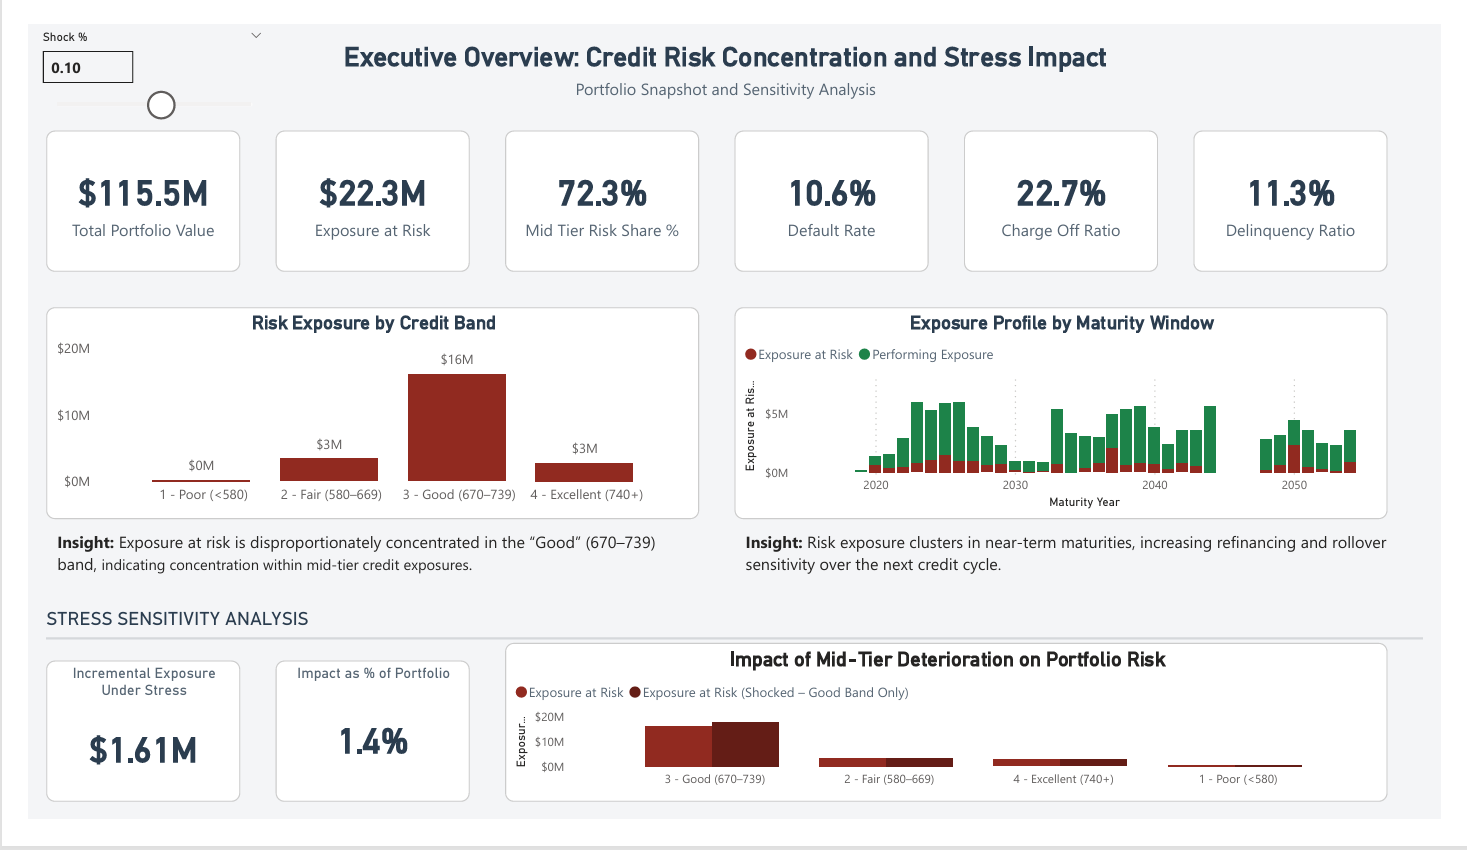

What the dashboard file says about the page in this screenshot:
{"tool":"powerbi","page":{"name":"EXECUTIVE DASHBOARD","canvas":[1280,720],"ordinal":0},"visuals":[{"type":"card","fields":{"Values":["zz_Measures.Total Portfolio Value"]},"box":[16,96,208,128],"z":1},{"type":"card","fields":{"Values":["zz_Measures.Delinquency Ratio"]},"box":[1072,112,176,96],"z":2},{"type":"card","fields":{"Values":["zz_Measures.Default Rate"]},"box":[688,112,176,96],"z":3},{"type":"card","fields":{"Values":["zz_Measures.Charge Off Ratio"]},"box":[880,112,176,96],"z":4},{"type":"card","fields":{"Values":["zz_Measures.Mid Tier Risk Share %"]},"box":[464,96,208,128],"z":5},{"type":"card","fields":{"Values":["zz_Measures.Exposure at Risk"]},"box":[240,96,208,128],"z":11},{"type":"clusteredColumnChart","title":"Risk Concentration","fields":{"Category":["loans.Credit Score Band (Ordered)"],"Y":["zz_Measures.Exposure at Risk"]},"box":[16,256,592,192],"z":12},{"type":"columnChart","title":"Maturity Exposure Profile","fields":{"Category":["loans.Maturity Year"],"Y":["zz_Measures.Exposure at Risk","zz_Measures.Performing Exposure"]},"box":[640,256,608,192],"z":13},{"type":"slicer","fields":{"Values":["Shock %.Shock %"]},"box":[0,0,224,96],"z":14},{"type":"card","title":"Incremental Exposure Under Stress","fields":{"Values":["zz_Measures.Δ Exposure (Shock Impact – Good Only)"]},"box":[16,576,240,144],"z":15},{"type":"card","title":"Impact as % of Portfolio","fields":{"Values":["zz_Measures.Shock Impact % of Portfolio"]},"box":[288,576,240,144],"z":16},{"type":"clusteredColumnChart","title":"Impact of Mid-Tier Deterioration on Portfolio Risk","fields":{"Category":["loans.Credit Score Band (Ordered)"],"Y":["zz_Measures.Exposure at Risk","zz_Measures.Exposure at Risk (Shocked – Good Band Only)"]},"box":[560,576,688,144],"z":17},{"type":"textbox","box":[16,448,592,64],"z":18},{"type":"textbox","box":[640,448,608,64],"z":19},{"type":"shape","title":"STRESS SENSITIVITY ANALYSIS","box":[16,528,1248,32],"z":21},{"type":"textbox","title":"Executive Overview: Credit Risk Concentration and Stress Impact","box":[240,16,1008,80],"z":22}]}

Visuals, with their boxes in screenshot pixels (x1, y1, x2, y2), scaled from the page's 1280x720 canvas onto the 1467x850 screenshot:
card - zz_Measures.Total Portfolio Value: pyautogui.locateOnScreen(18, 113, 257, 264)
card - zz_Measures.Delinquency Ratio: pyautogui.locateOnScreen(1229, 132, 1430, 246)
card - zz_Measures.Default Rate: pyautogui.locateOnScreen(789, 132, 990, 246)
card - zz_Measures.Charge Off Ratio: pyautogui.locateOnScreen(1009, 132, 1210, 246)
card - zz_Measures.Mid Tier Risk Share %: pyautogui.locateOnScreen(532, 113, 770, 264)
card - zz_Measures.Exposure at Risk: pyautogui.locateOnScreen(275, 113, 513, 264)
"Risk Concentration" clusteredColumnChart: pyautogui.locateOnScreen(18, 302, 697, 529)
"Maturity Exposure Profile" columnChart: pyautogui.locateOnScreen(734, 302, 1430, 529)
slicer - Shock %.Shock %: pyautogui.locateOnScreen(0, 0, 257, 113)
"Incremental Exposure Under Stress" card: pyautogui.locateOnScreen(18, 680, 293, 849)
"Impact as % of Portfolio" card: pyautogui.locateOnScreen(330, 680, 605, 849)
"Impact of Mid-Tier Deterioration on Portfolio Risk" clusteredColumnChart: pyautogui.locateOnScreen(642, 680, 1430, 849)
textbox: pyautogui.locateOnScreen(18, 529, 697, 604)
textbox: pyautogui.locateOnScreen(734, 529, 1430, 604)
"STRESS SENSITIVITY ANALYSIS" shape: pyautogui.locateOnScreen(18, 623, 1449, 661)
"Executive Overview: Credit Risk Concentration and Stress Impact" textbox: pyautogui.locateOnScreen(275, 19, 1430, 113)
